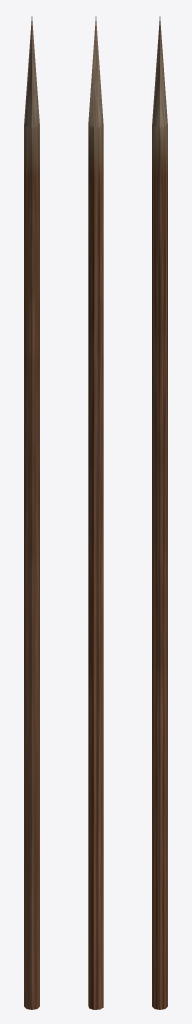
File: stick.fbx
The picture shows the model from 3 angles, left to right: view 1: azimuth 90°, elevation 25°; view 2: azimuth 210°, elevation 25°; view 3: azimuth 270°, elevation 25°; orthographic projection.
Parts seen in each view (by area): view 1: stick; view 2: stick; view 3: stick.
Part boxes in pixels (x1,y1,x2,y2): stick: [24, 16, 39, 1009]; stick: [88, 16, 103, 1009]; stick: [152, 16, 167, 1009].
Bounding box in the file's own units: 11.85 × 822 × 11.85.
